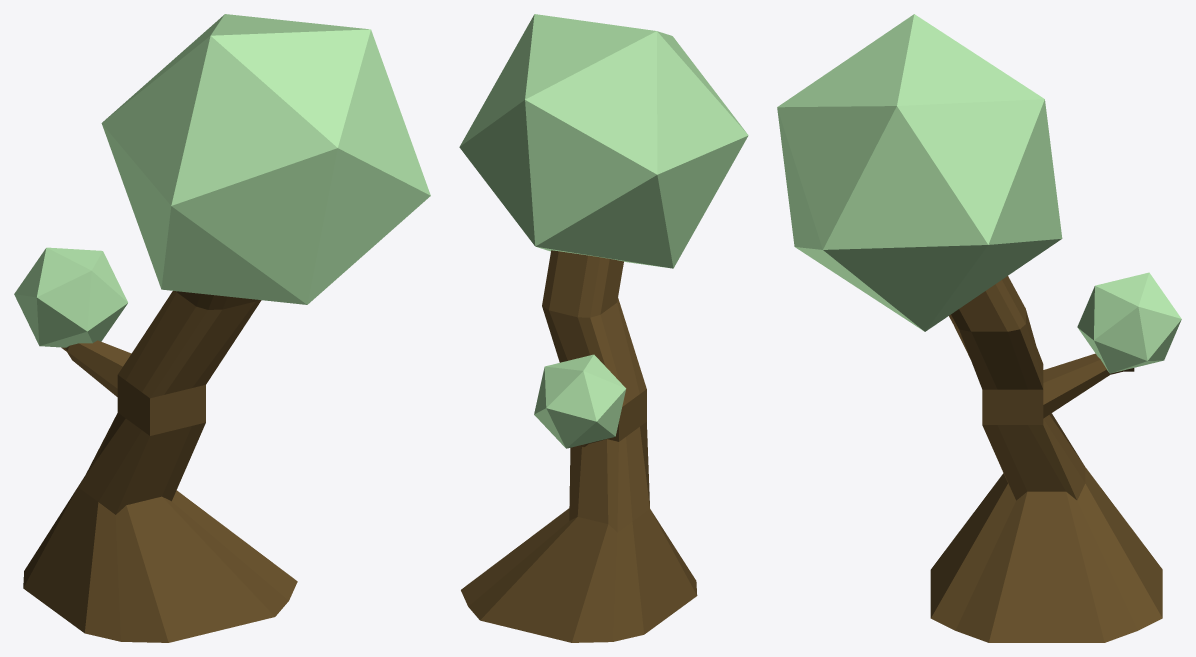
File: Tree.fbx
The picture shows the model from 3 angles, left to right: view 1: azimuth 30°, elevation 25°; view 2: azimuth 150°, elevation 25°; view 3: azimuth 270°, elevation 25°; orthographic projection. The views are drawn at different scales.
Parts seen in each view (by area): view 1: Cube; view 2: Cube; view 3: Cube.
Part boxes in pixels (left/top/right/bottom): Cube: left=14, top=14, right=430, bottom=642; Cube: left=459, top=14, right=748, bottom=642; Cube: left=777, top=14, right=1181, bottom=642.
Size of the model in its own units: 329 by 689 by 443.
